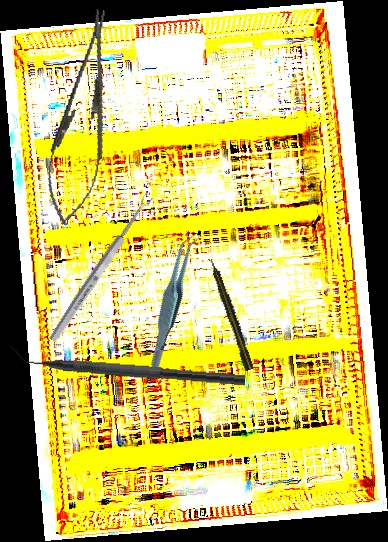Chopper: (8, 341, 247, 387)
Handpiece: (206, 256, 255, 372)
Needle Holder: (37, 5, 129, 230)
Surgical Spoon: (47, 192, 155, 344)
Tissue Forceps: (123, 231, 222, 371)
